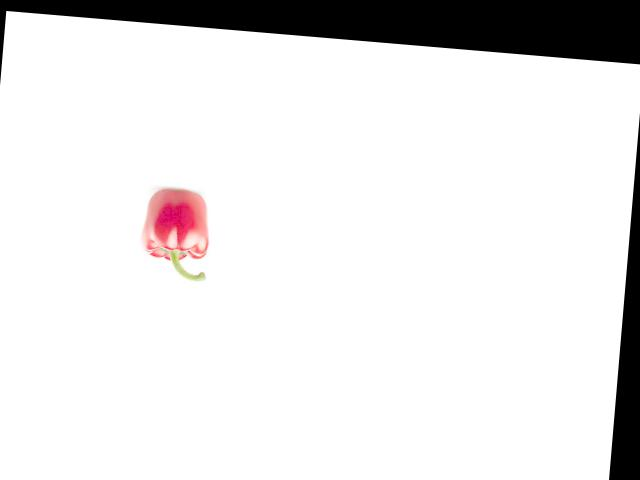bell_pepper: (139, 186, 215, 283)
